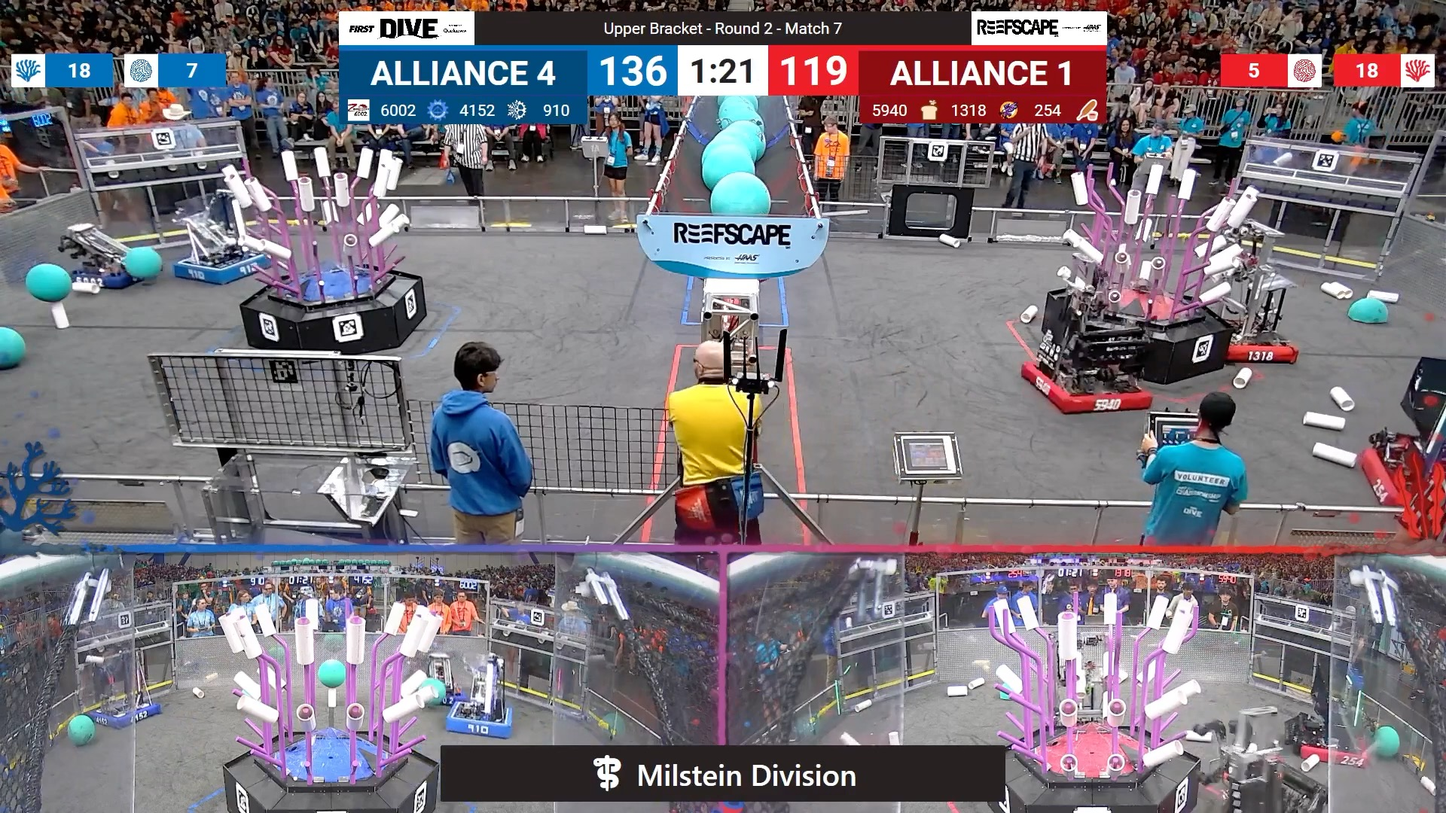bumpers: (1017, 356, 1161, 422), (166, 249, 281, 290), (1217, 321, 1308, 371), (1287, 724, 1378, 771), (54, 251, 142, 295), (439, 699, 518, 743), (83, 699, 170, 735)
